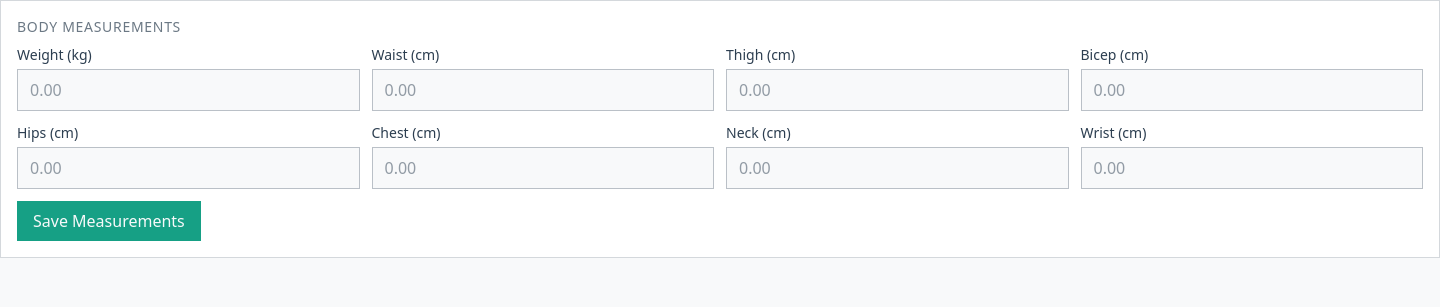
Test: MeasurementLogger › shows an error when save is clicked with no values entered
What coordinates should you click on to do the following:
click the button "Save Measurements"
I would click on:
 (109, 221)
Its box is [17,201,201,241].
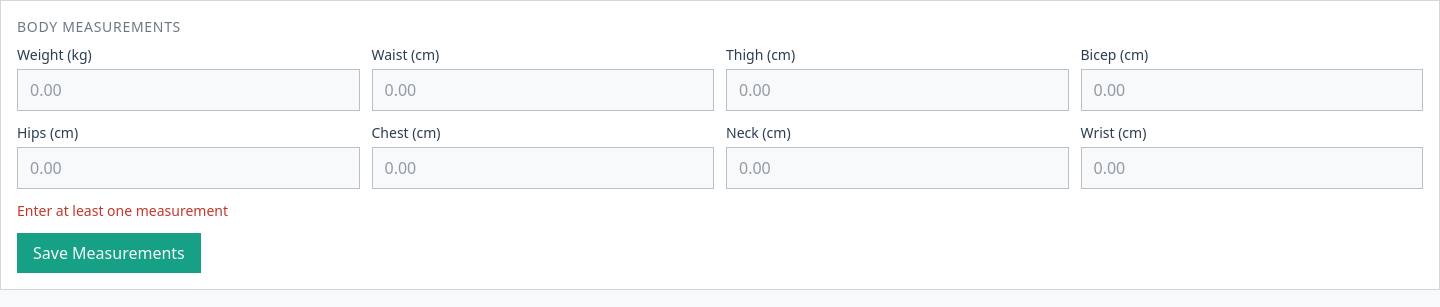
expect the text "Enter at least one measurement" is shown: met, box [17,201,228,220]
